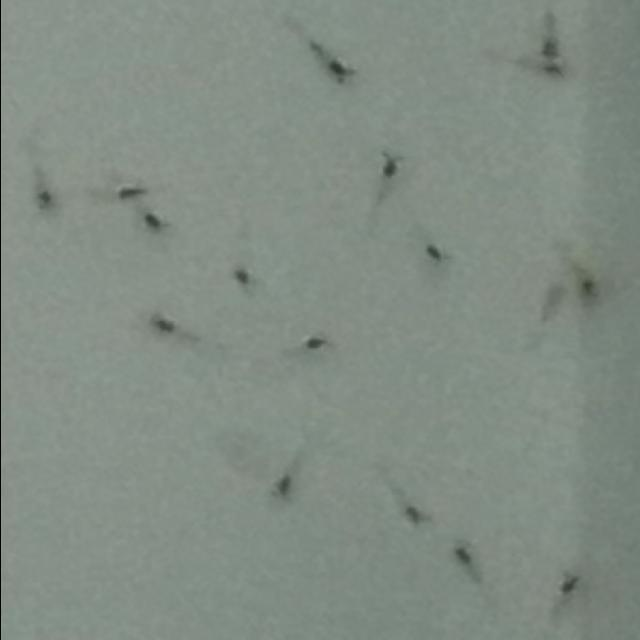shrimp-seed: (312, 43, 358, 85), (30, 186, 60, 222), (572, 274, 604, 307), (270, 469, 298, 504), (380, 150, 408, 184), (403, 502, 437, 530), (116, 181, 150, 209), (142, 210, 174, 238), (301, 330, 335, 356), (542, 284, 564, 324), (229, 265, 258, 295), (556, 570, 584, 600), (532, 34, 560, 62), (424, 246, 454, 270), (148, 312, 176, 337), (537, 59, 570, 80), (449, 544, 475, 570)
